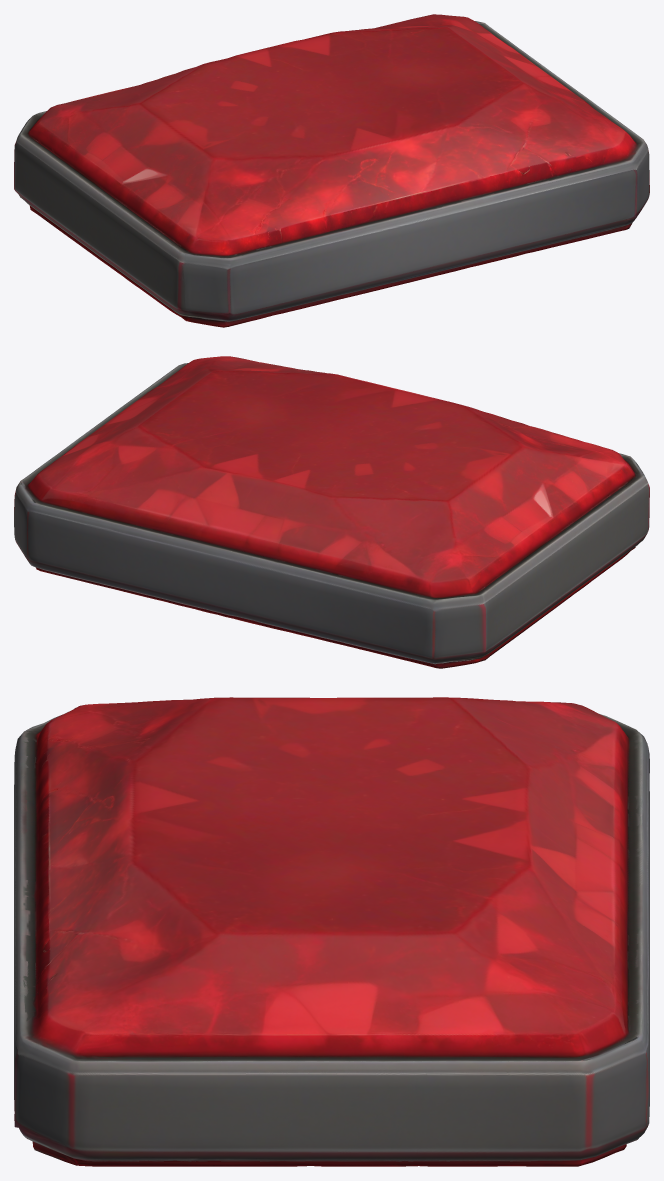
Rendered from rectangular_UI_button_0702151228_texture.fbx.
3 views of the same model, one above another, from view 1: azimuth 30°, elevation 25°; view 2: azimuth 150°, elevation 25°; view 3: azimuth 270°, elevation 25° (orthographic). The views are drawn at different scales.
Parts seen in each view (by area): view 1: input; view 2: input; view 3: input.
Part boxes in pixels (x1=…): input: x1=14, y1=14, x2=649, y2=327; input: x1=14, y1=356, x2=649, y2=668; input: x1=14, y1=697, x2=649, y2=1166.
Bounding box in the file's own units: 200 × 47.34 × 149.
Materials: 1 (1 with a texture image).
